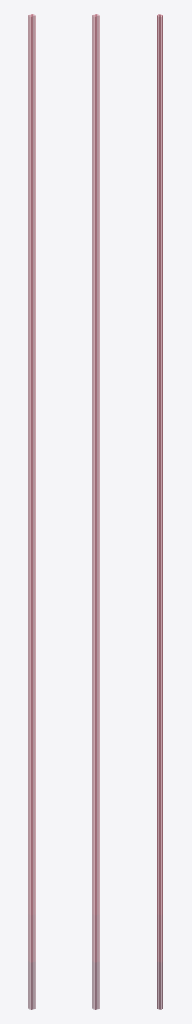
Rendered from myocytesOnlyColors.glb.
3 renders of one model, left to right at view 1: azimuth 30°, elevation 25°; view 2: azimuth 210°, elevation 25°; view 3: azimuth 330°, elevation 25°, orthographic.
Size of the model in its own units: 117 by 21000 by 92.
